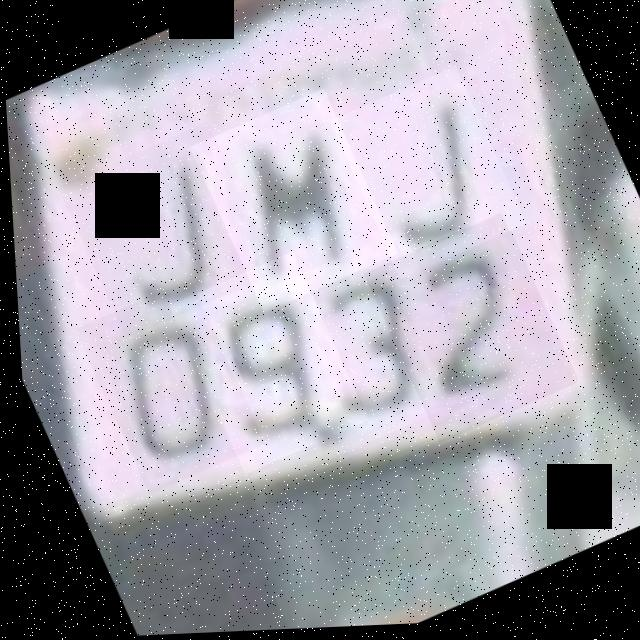0: (69, 278, 262, 498)
2: (357, 215, 577, 449)
3: (248, 230, 477, 465)
9: (163, 252, 366, 479)
J: (53, 121, 275, 342), (325, 67, 527, 285)
M: (185, 89, 398, 317)
